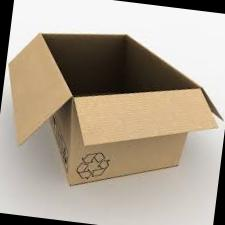cardboard: (0, 6, 225, 215)
